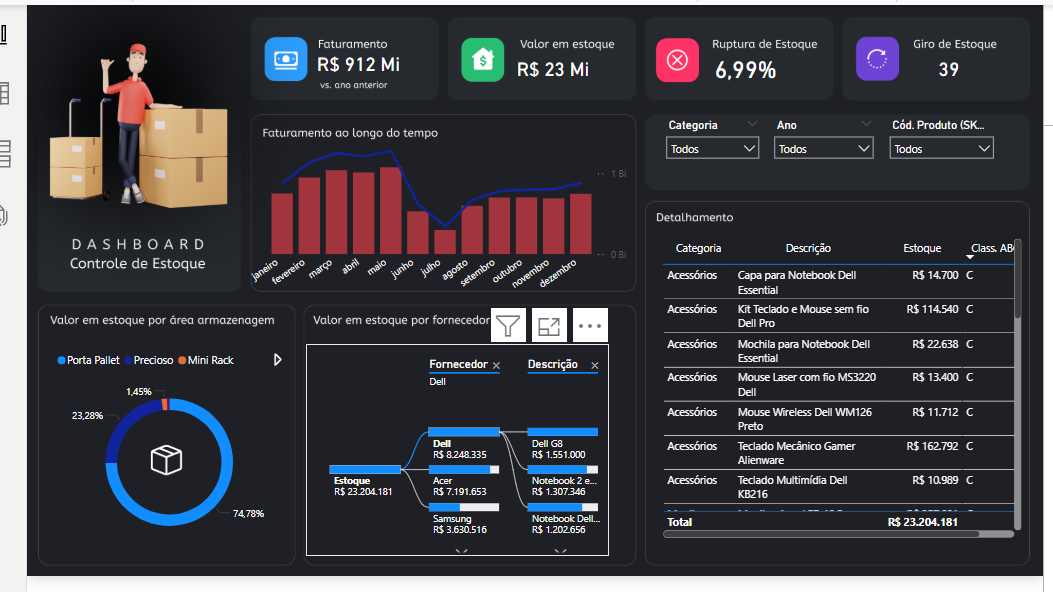

What the dashboard file says about the page in this screenshot:
{"tool":"powerbi","page":{"name":"Controle de Estoque ","canvas":[1280,720],"ordinal":0},"visuals":[{"type":"card","fields":{"Values":["Sum(Pedidos.Valor Total (R$))"]},"box":[325.3,25.8,184.5,93.2],"z":0},{"type":"card","fields":{"Values":["Estoque.Estoque"]},"box":[565.3,39.7,194.4,79.3],"z":1000},{"type":"card","fields":{"Values":["Estoque.Puptura de Estoque"]},"box":[1063.1,39.7,194.4,79.3],"z":2000},{"type":"lineClusteredColumnComboChart","fields":{"Category":["dcalendario.Date.Variation.Hierarquia de datas.Ano","dcalendario.Date.Variation.Hierarquia de datas.Trimestre","dcalendario.Date.Variation.Hierarquia de datas.Mês","dcalendario.Date.Variation.Hierarquia de datas.Dia"],"Y":["Medidas.Faturamento"],"Y2":["Sum(Pedidos.Nº Ordem de Venda (OV))"]},"box":[273.7,146.8,486,232.1],"z":3000},{"type":"donutChart","fields":{"Y":["Medidas.Estoque"],"Category":["Estoque.Descrição"]},"box":[31.7,426.4,293.6,267.8],"z":4000},{"type":"decompositionTreeVisual","fields":{"Analyze":["Medidas.Estoque"],"ExplainBy":["Produtos.Fornecedor","Produtos.Descrição"]},"box":[351.1,426.4,382.8,267.8],"z":5000},{"type":"tableEx","fields":{"Values":["Produtos.Categoria","Produtos.Descrição","Medidas.Estoque","Produtos.Class. ABC Item"]},"box":[795.4,289.6,462.2,386.8],"z":6000},{"type":"card","fields":{"Values":["Pedidos.%"]},"box":[811.2,45.6,188.4,67.4],"z":7000},{"type":"slicer","fields":{"Values":["Produtos.Categoria"]},"box":[795.4,138.8,136.9,63.5],"z":8000},{"type":"slicer","fields":{"Values":["dcalendario.Ano"]},"box":[932.2,138.8,144.8,77.4],"z":9000},{"type":"slicer","fields":{"Values":["Produtos.Cód. Produto (SKU)"]},"box":[1077,138.8,150.7,63.5],"z":10000}]}

Visuals, with their boxes in screenshot pixels (x1, y1, x2, y2), scaled from the page's 1280x720 canvas onto the 1053x592 screenshot:
card - Sum(Pedidos.Valor Total (R$)): 268:21:419:98
card - Estoque.Estoque: 465:33:625:98
card - Estoque.Puptura de Estoque: 875:33:1034:98
lineClusteredColumnComboChart - dcalendario.Date.Variation.Hierarquia de datas.Ano x dcalendario.Date.Variation.Hierarquia de datas.Trimestre: 225:121:625:312
donutChart - Medidas.Estoque x Estoque.Descrição: 26:351:268:571
decompositionTreeVisual - Medidas.Estoque x Produtos.Fornecedor: 289:351:604:571
tableEx - Produtos.Categoria x Produtos.Descrição: 654:238:1035:556
card - Pedidos.%: 667:37:822:93
slicer - Produtos.Categoria: 654:114:767:166
slicer - dcalendario.Ano: 767:114:886:178
slicer - Produtos.Cód. Produto (SKU): 886:114:1010:166
